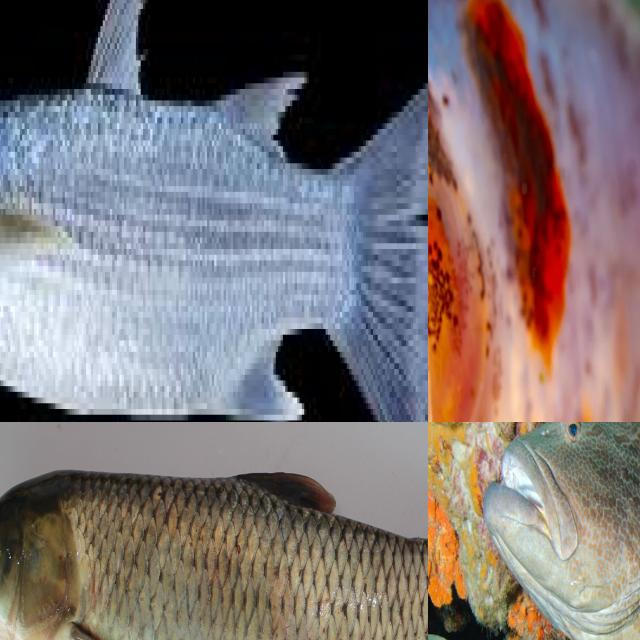fish: (0, 0, 428, 422), (0, 422, 428, 640), (428, 65, 620, 422)
